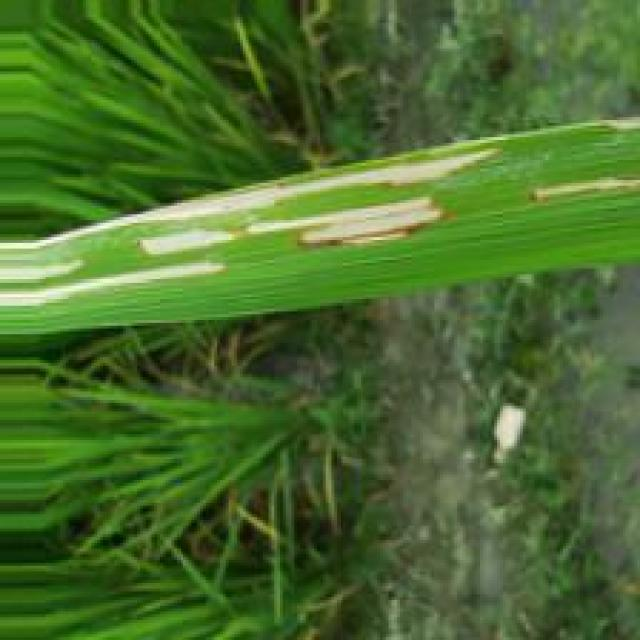Rice_Hispa: (0, 145, 490, 253), (138, 198, 452, 256), (0, 261, 233, 310)
